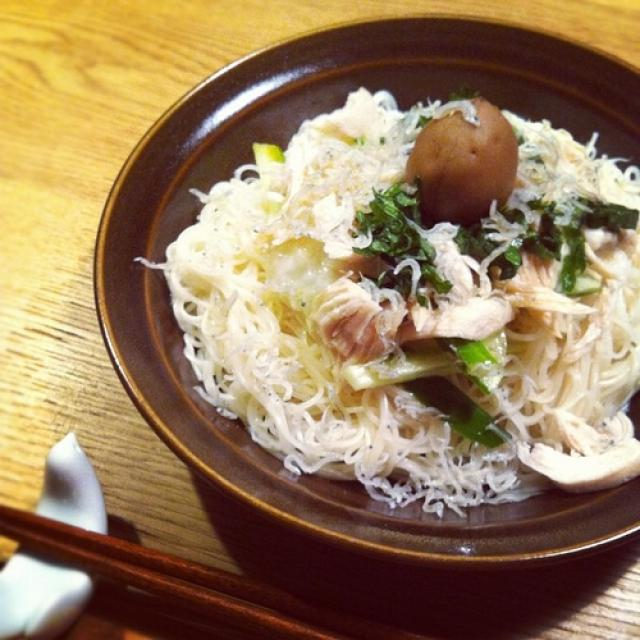面条主食: (133, 28, 635, 535)
